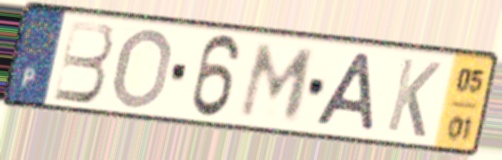6: (188, 32, 242, 121)
A: (311, 50, 376, 136)
B: (50, 17, 116, 106)
K: (383, 55, 445, 141)
M: (235, 40, 320, 123)
O: (109, 25, 176, 112)
